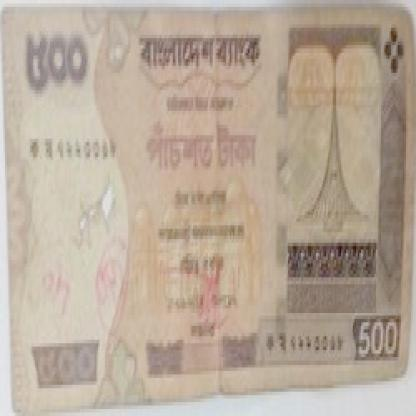500 taka: (138, 114, 275, 188), (8, 24, 108, 108)
currency: (3, 7, 411, 399)
